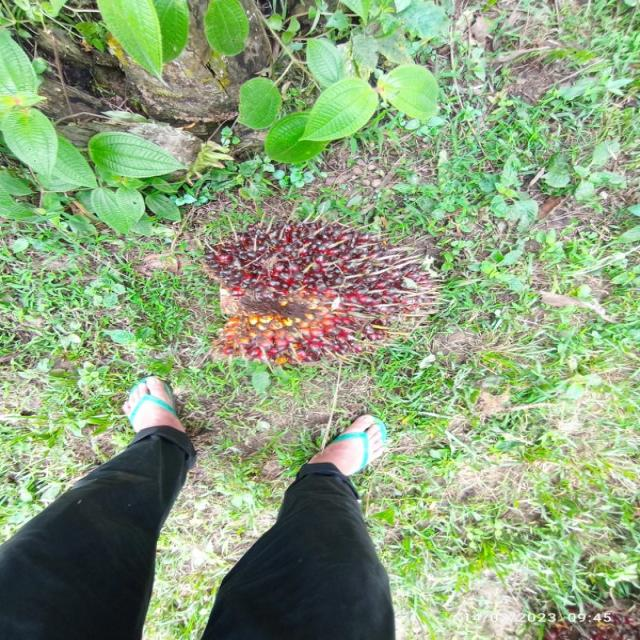fraksi 1: (201, 218, 442, 370)
